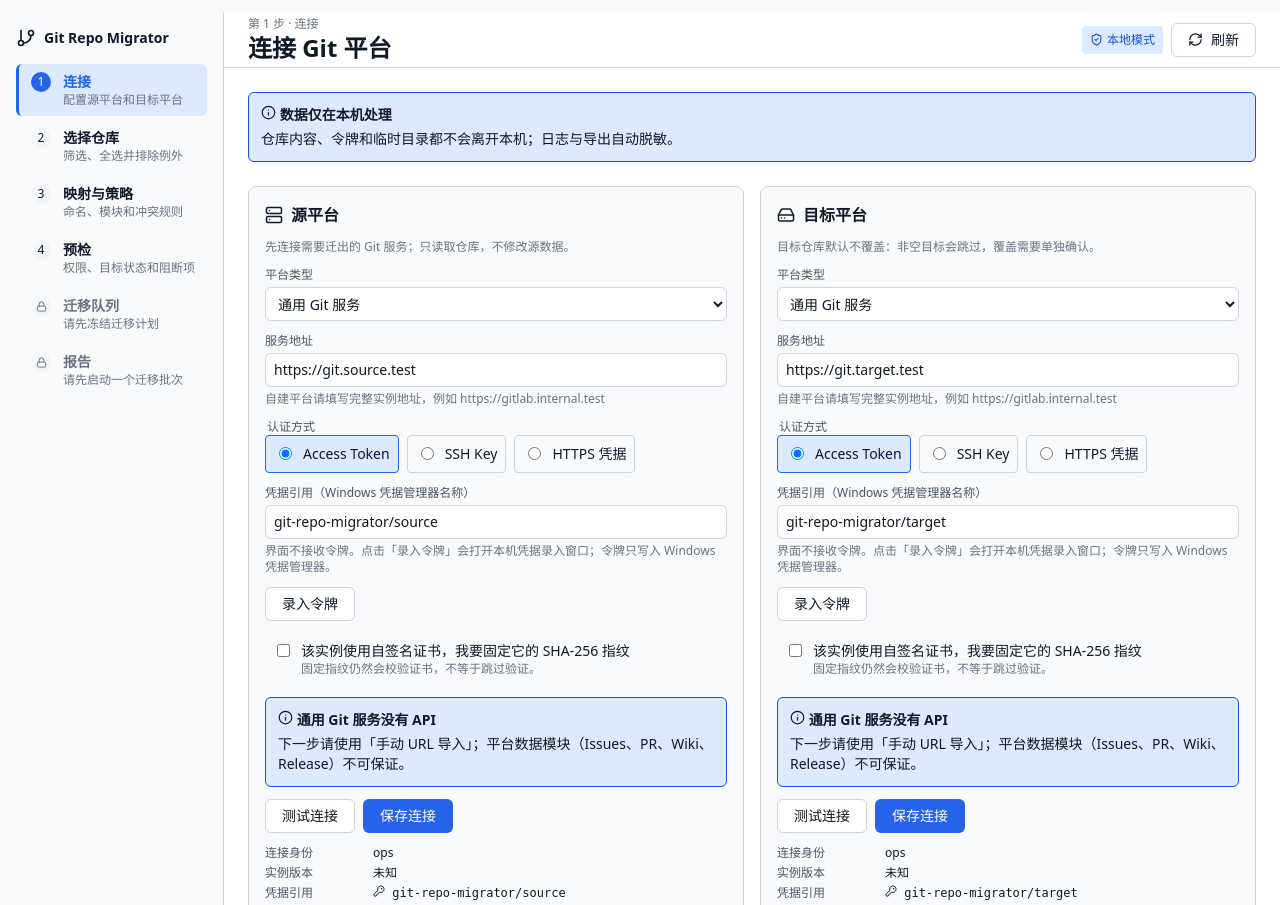
Scenario: 应用外壳 › 前置条件满足后可以进入对应步骤
Click the button "2 选择仓库 筛选、全选并排除例外": point(112, 146) [16, 120, 207, 172]
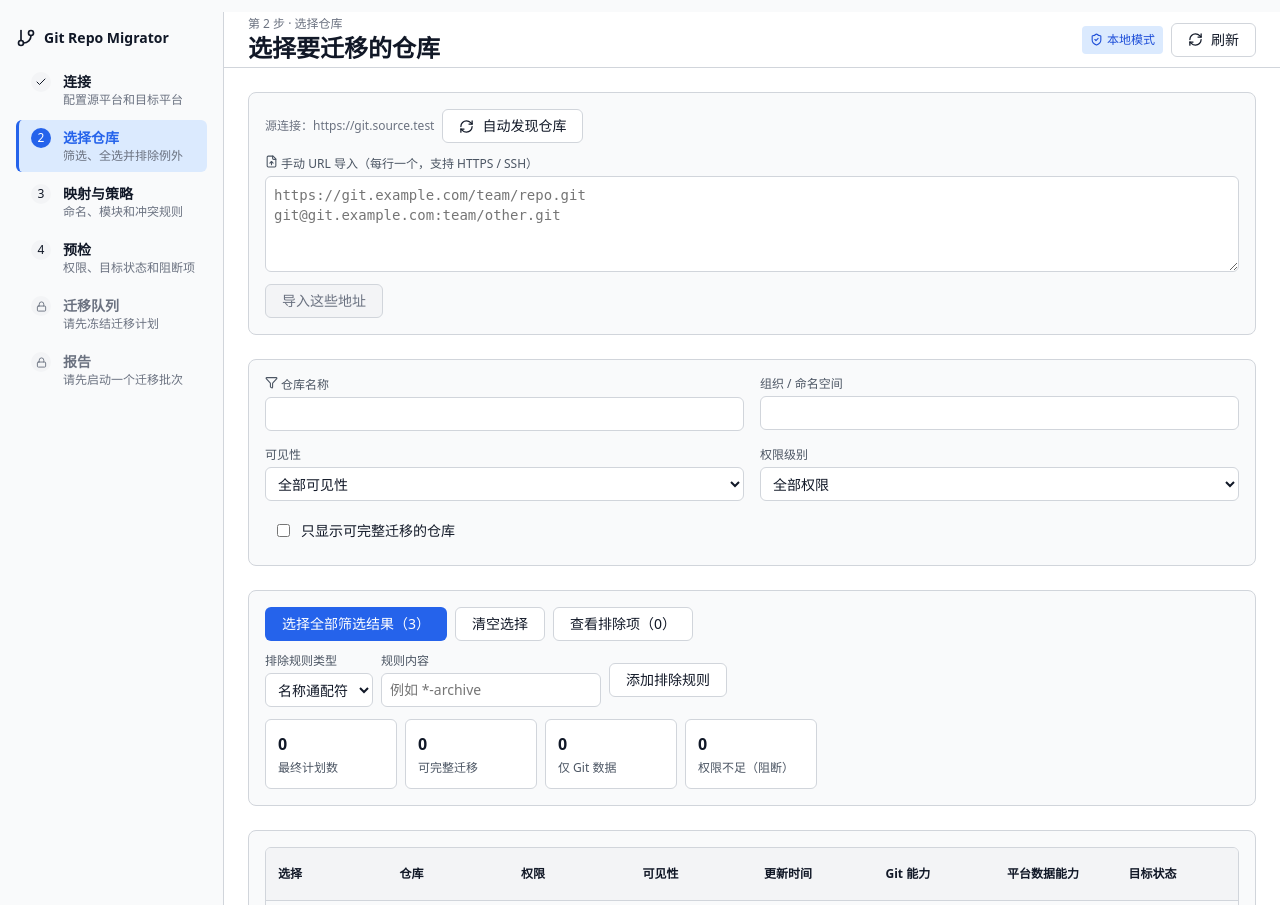
Result: the heading reads "选择要迁移的仓库" at [248, 30, 440, 64]
